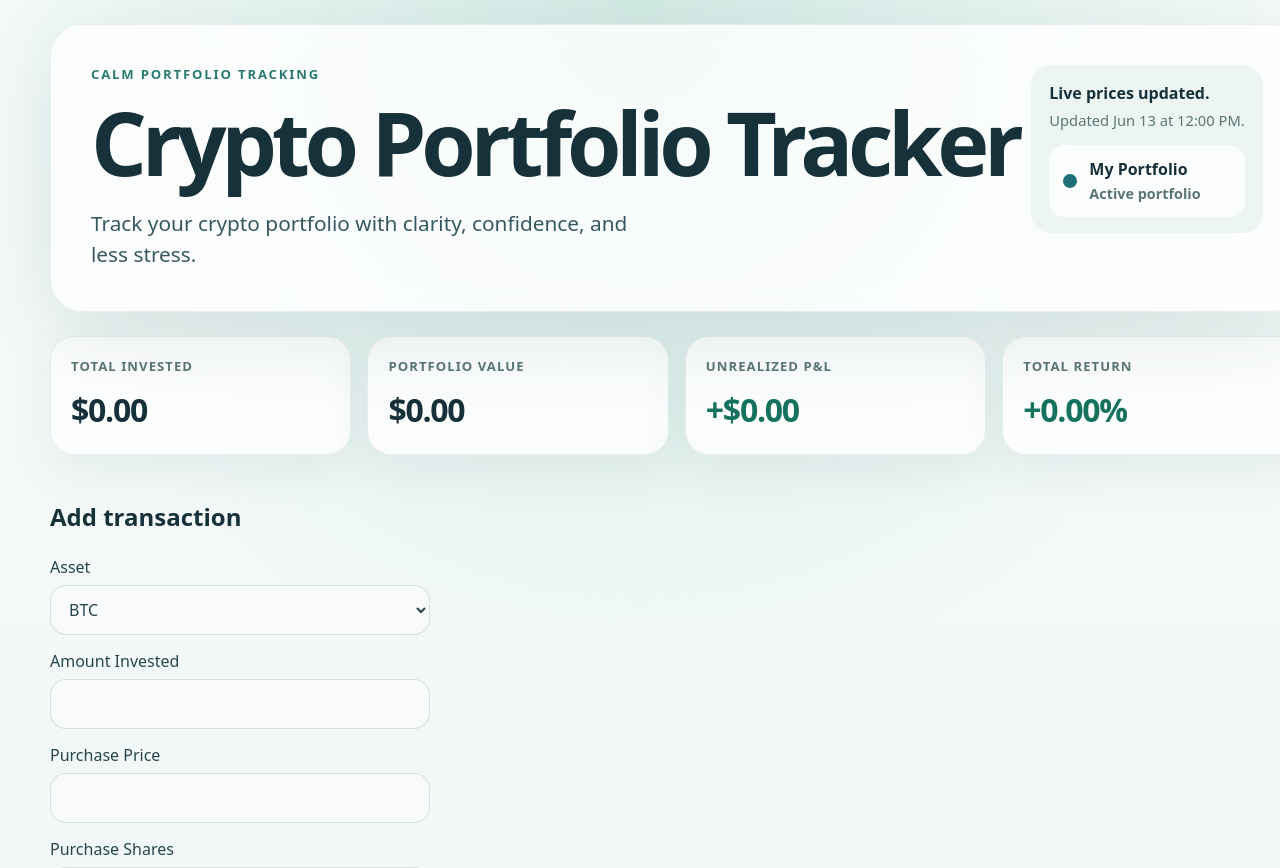
Test: recalculates purchase price when amount invested and purchase shares are entered
Type "1000" into the number field labelled "Amount Invested" at point(240, 704), box [50,679,430,729]
(page scrolled)
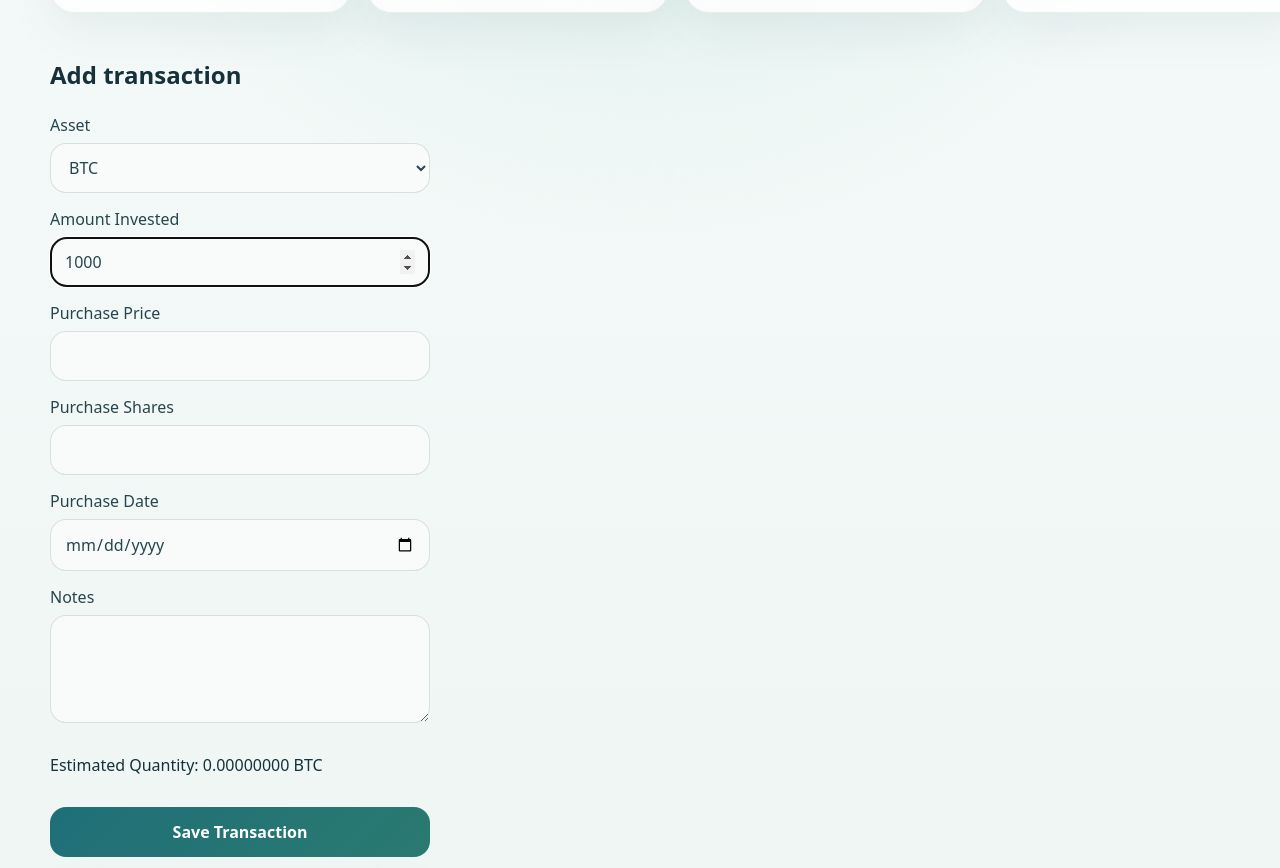
Type "0.02" into the number field labelled "Purchase Shares" at point(240, 450), box [50,425,430,475]
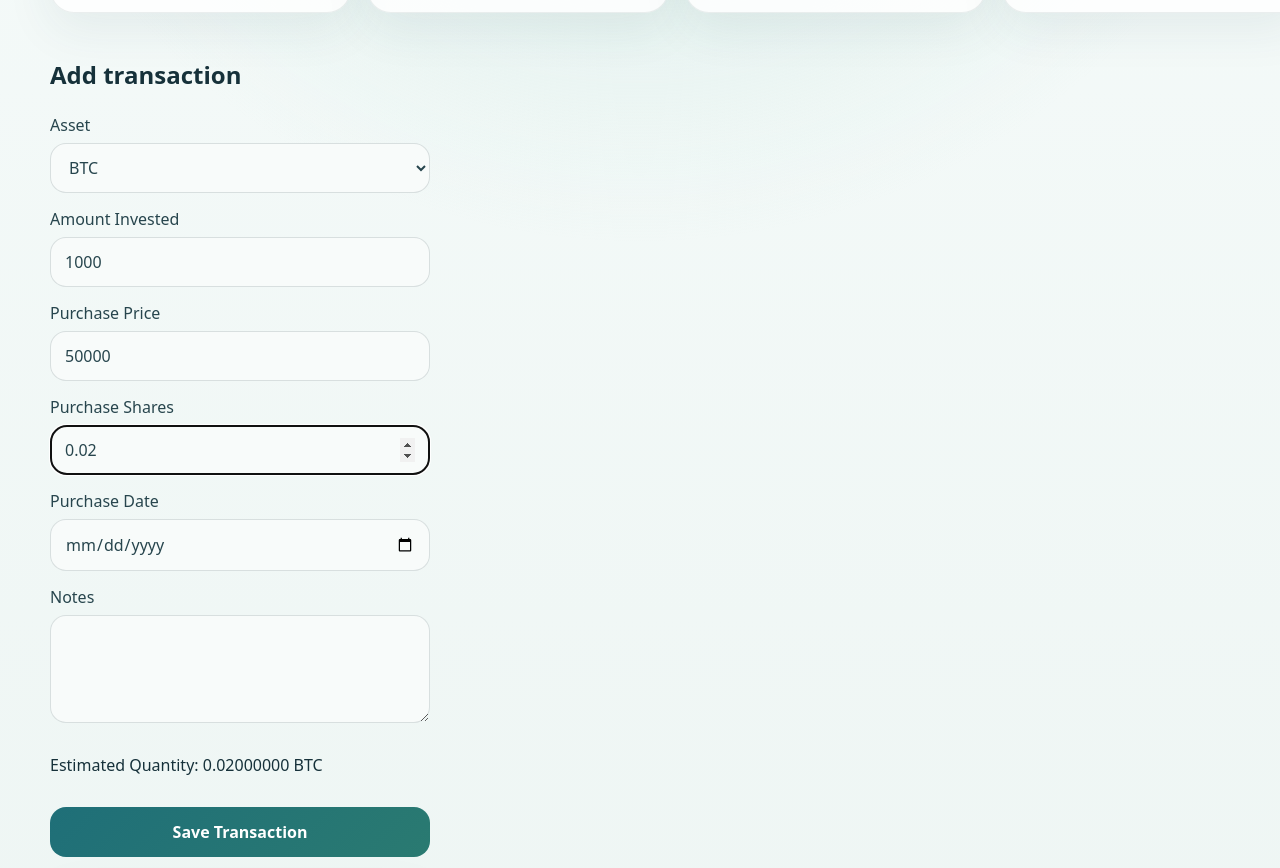
Expected: the number field labelled "Purchase Price" holds "50000", [50,331,430,381]
